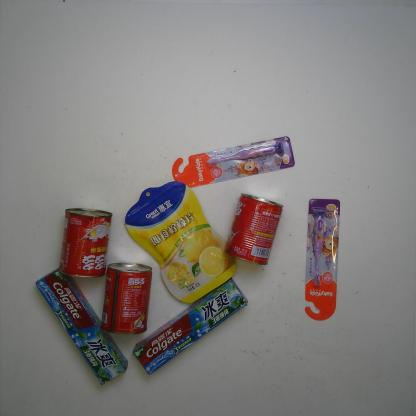Canned Food: (223, 192, 284, 266), (97, 259, 155, 336), (55, 206, 113, 282)
Dried Fruit: (124, 180, 238, 305)
Personal Hygiene: (131, 276, 249, 378), (34, 267, 130, 388), (171, 135, 296, 188), (304, 196, 342, 322)
